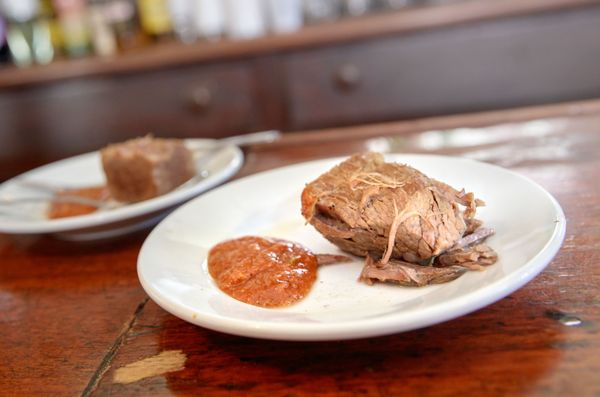curry: (0, 96, 600, 390)
sushi: (99, 133, 197, 204)
